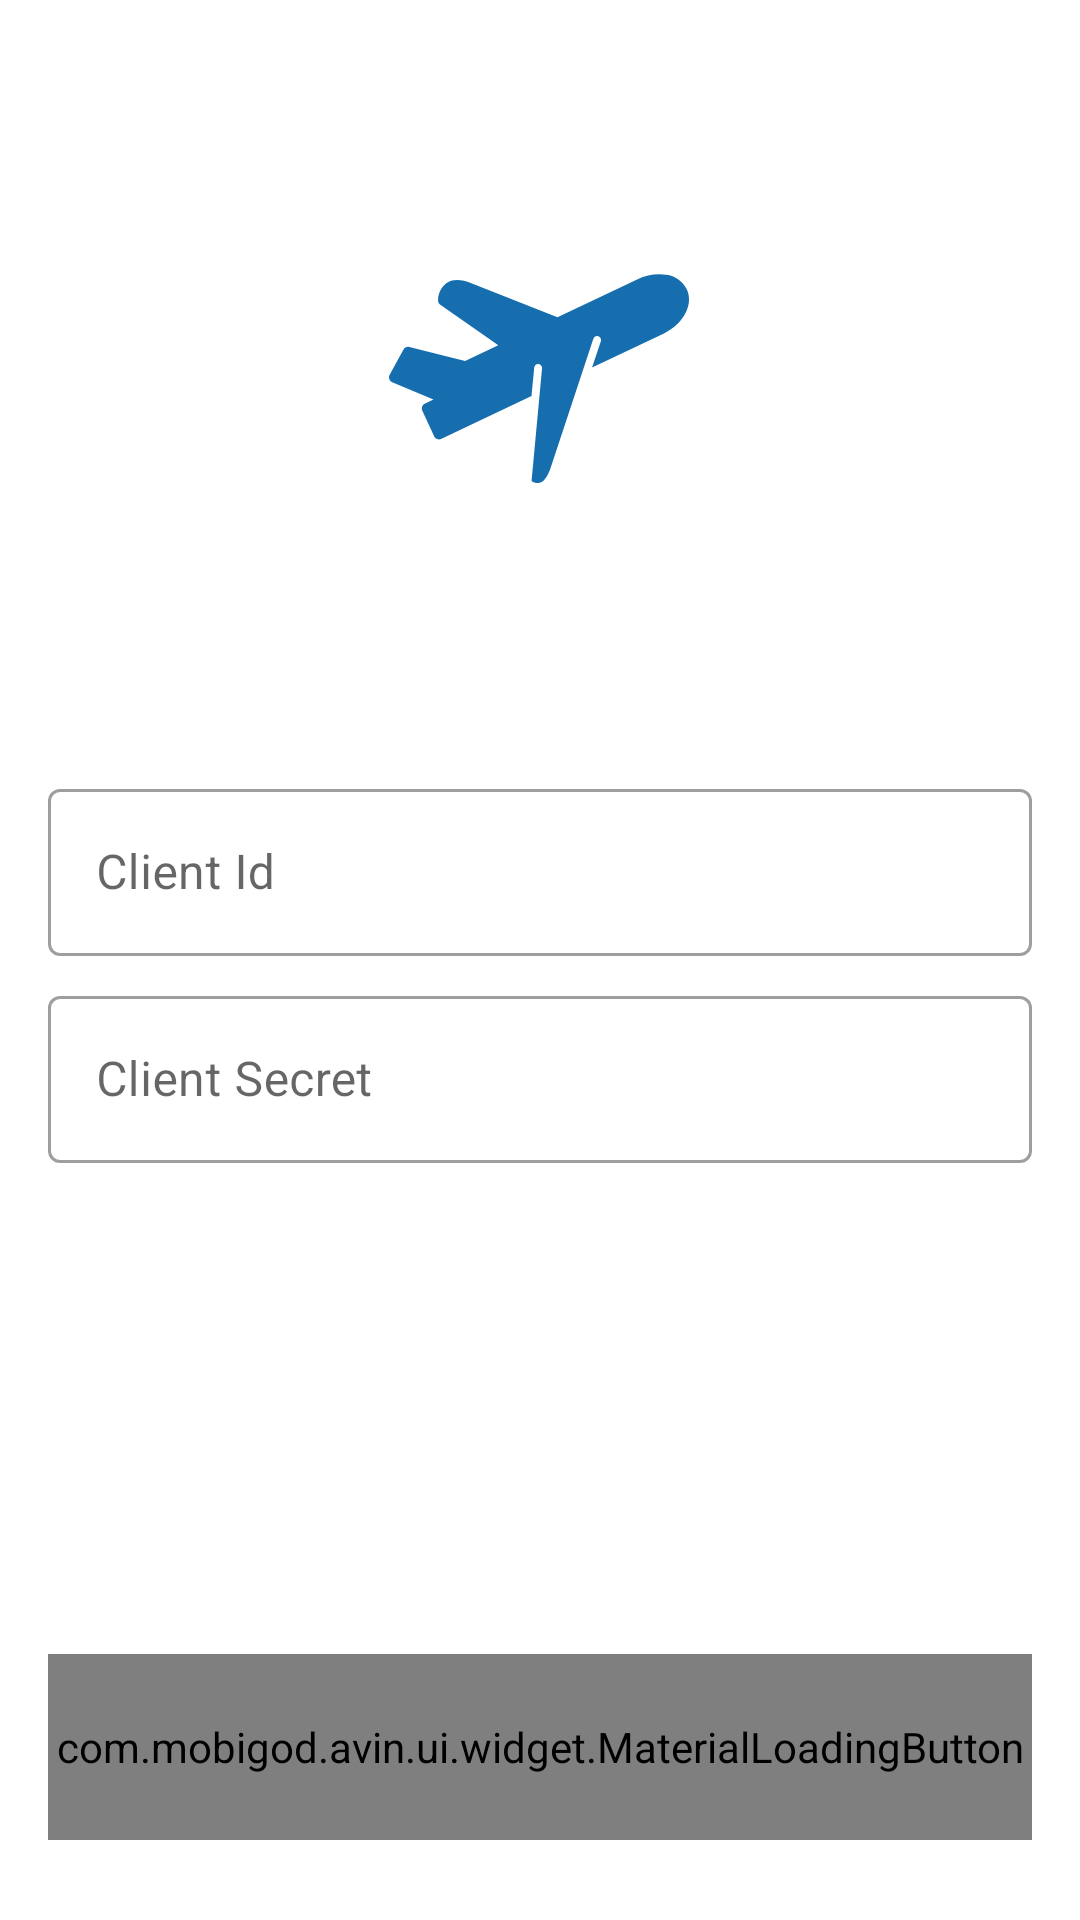

Screen size 1080px×1920px. Icon name, then its box in pixels as (x1, y1, x2, y2):
plane: (389, 274, 689, 483)
